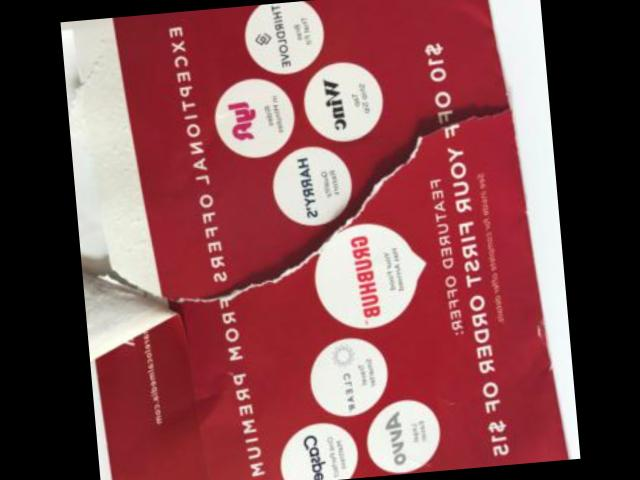cardboard paper: (60, 0, 568, 480)
